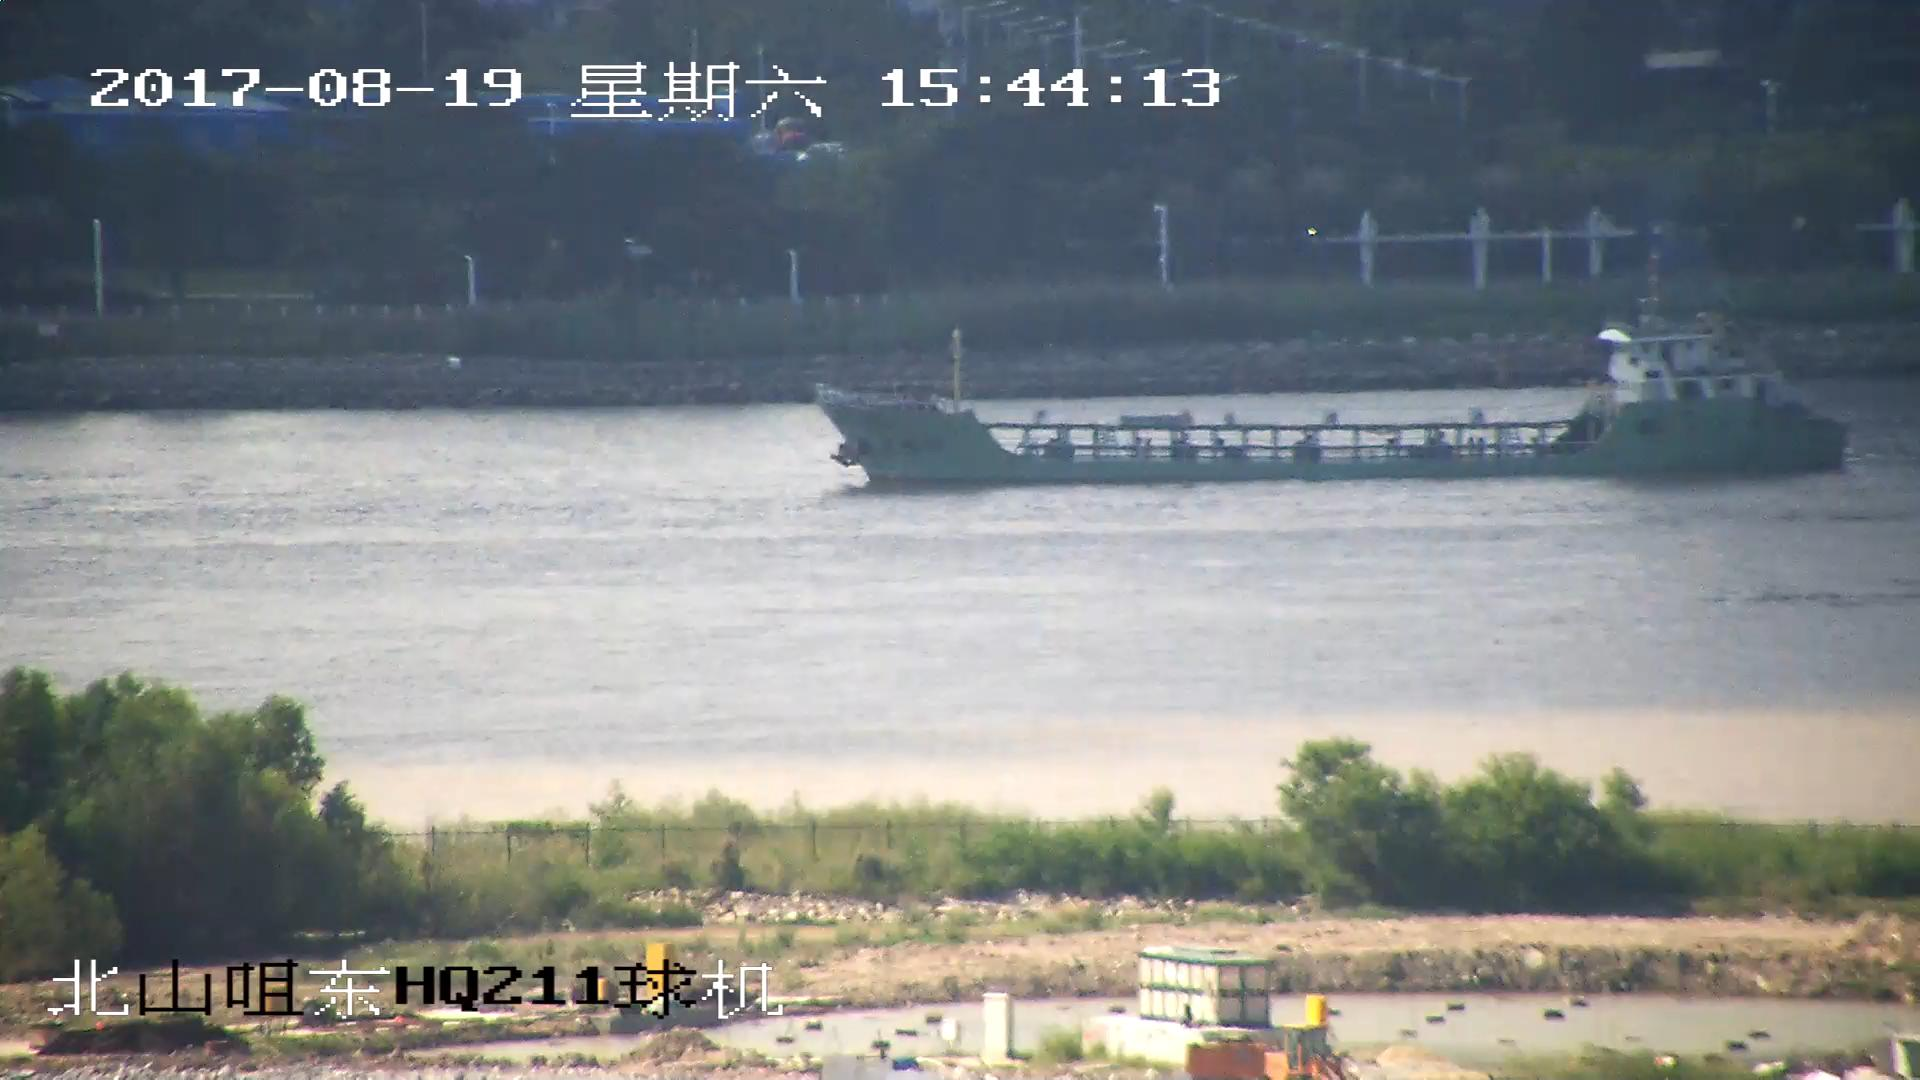general cargo ship: (818, 281, 1848, 486)
